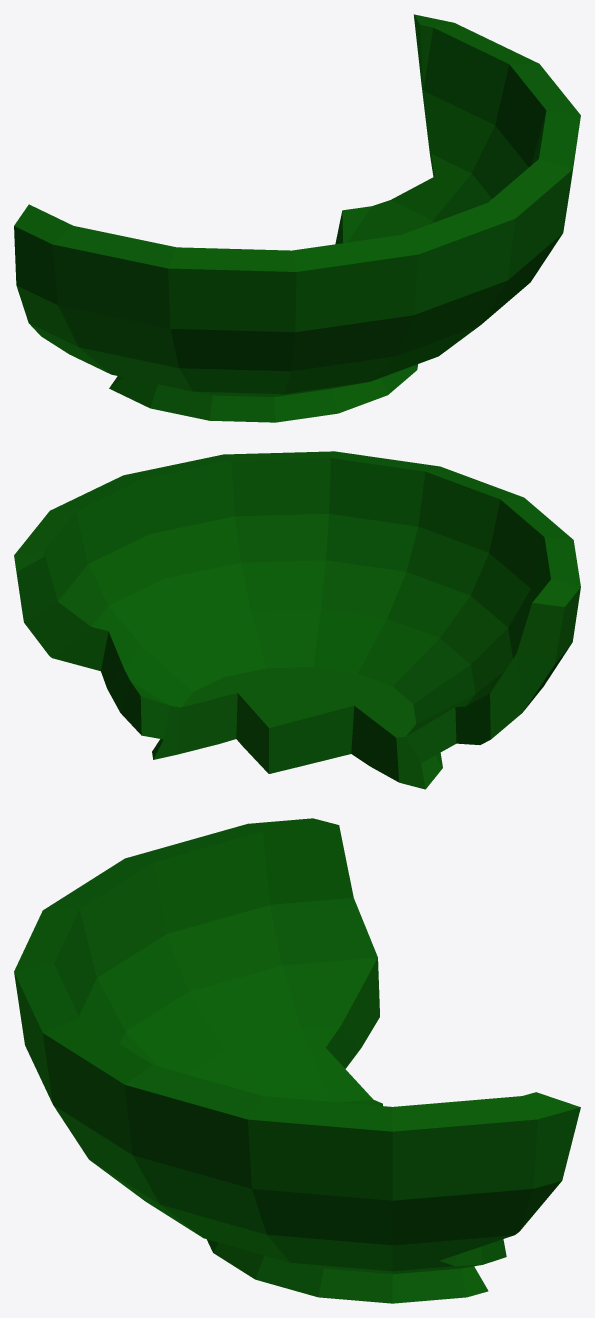
Rendered from LudumDareBowlBrokenS1.fbx.
3 views of the same model, one above another, from view 1: azimuth 30°, elevation 25°; view 2: azimuth 150°, elevation 25°; view 3: azimuth 270°, elevation 25° (orthographic). The views are drawn at different scales.
Parts seen in each view (by area): view 1: Bowl; view 2: Bowl; view 3: Bowl.
Part boxes in pixels (x1,y1,x2,y2): Bowl: (14, 14, 580, 422); Bowl: (14, 451, 580, 789); Bowl: (14, 818, 580, 1303).
Size of the model in its own units: 23.69 by 9.27 by 18.11.
